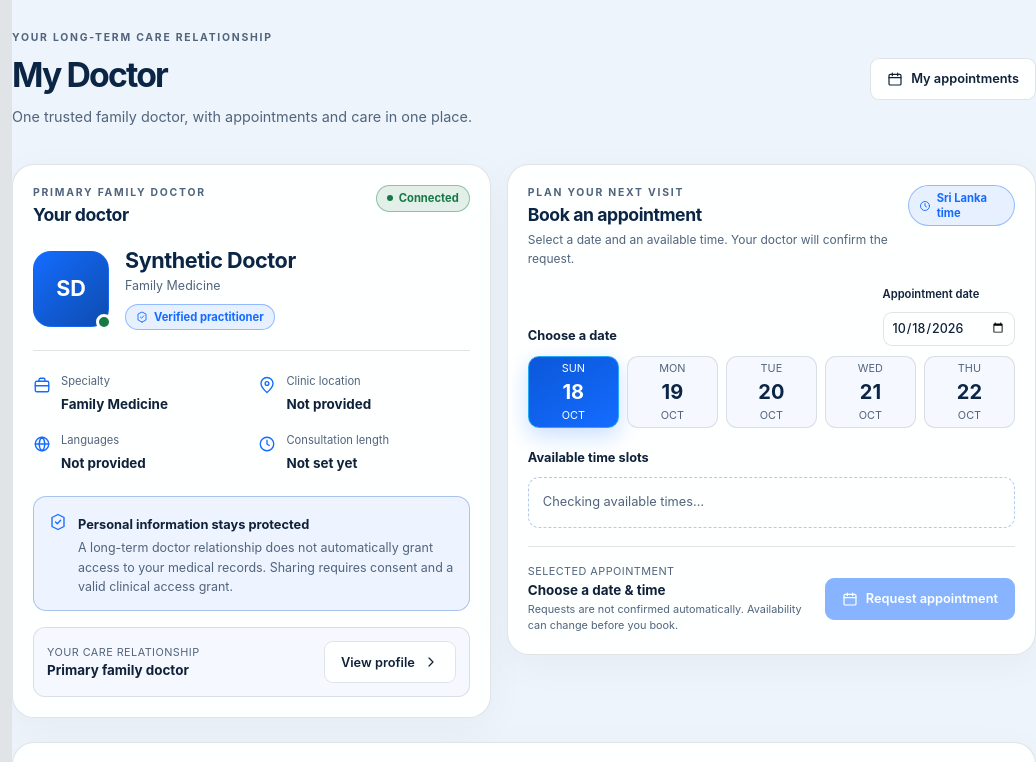
MyDoctor availability › loads the chosen date and renders UTC slots in Sri Lanka time
Type "2026-10-06" into the date field labelled "Appointment date".
click(949, 329); type("2026-10-06")  # box [882,312,1015,346]
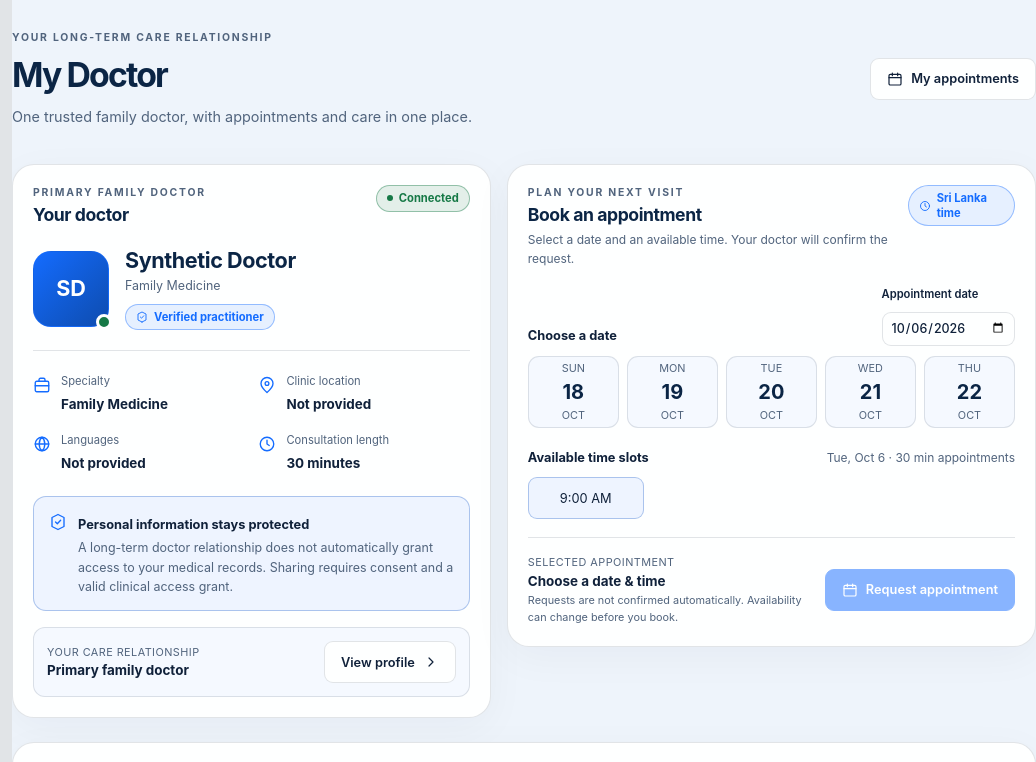
Expected: the button "9:00 AM" is shown, [528,477,644,519]
